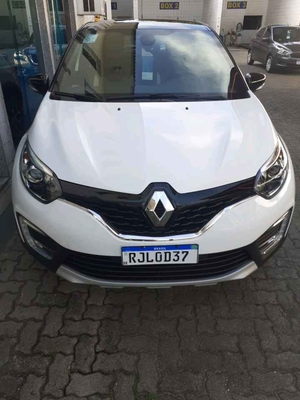Frontal Veiculo: (9, 22, 295, 289)
